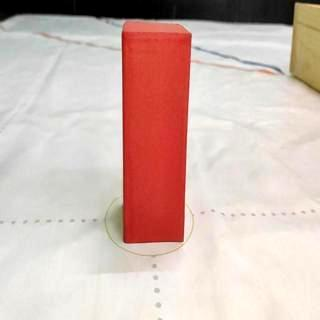redbox: (122, 20, 192, 245)
